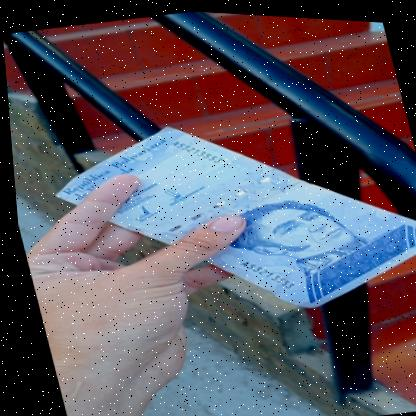ten-front-vef: (35, 74, 416, 351)
